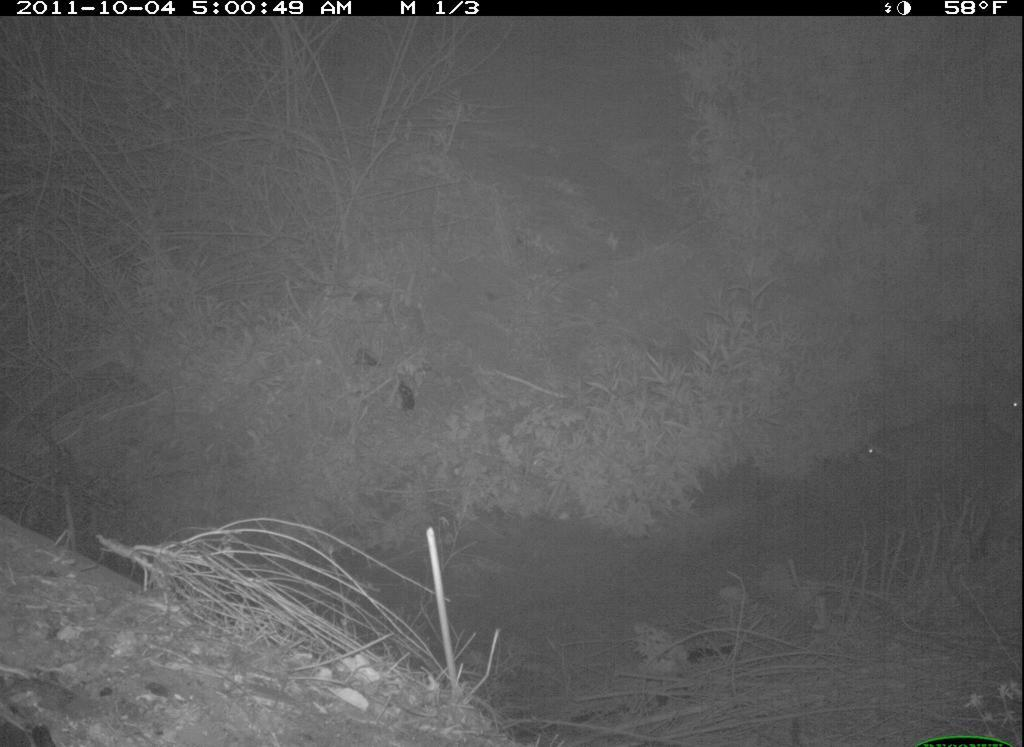raccoon: (849, 388, 999, 492)
